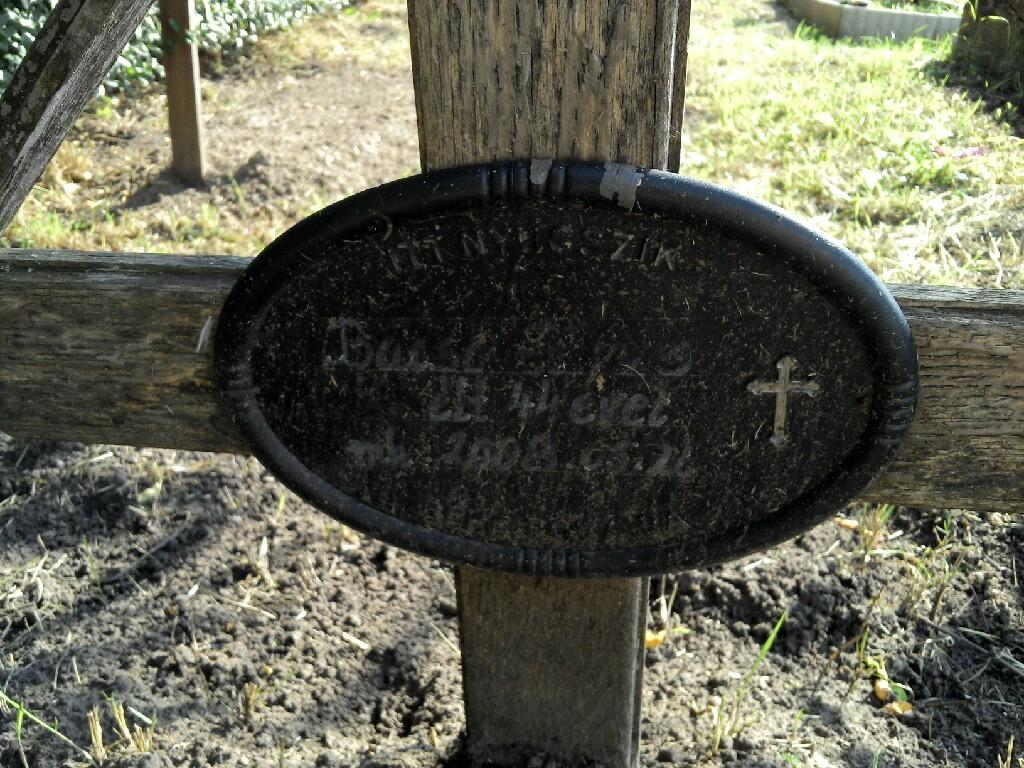plaque: (199, 148, 948, 575)
